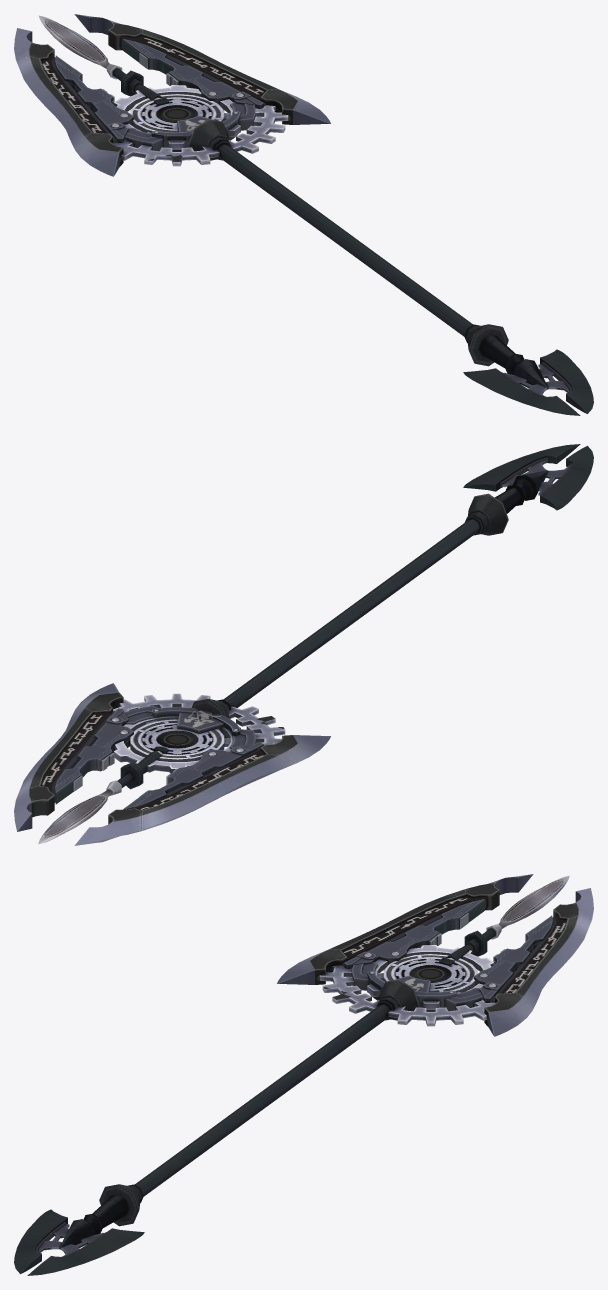
File: spear_ooparts_spear_ooparts_spear_mumei_s.glb
3 renders of one model, top to bottom at view 1: azimuth 30°, elevation 25°; view 2: azimuth 150°, elevation 25°; view 3: azimuth 330°, elevation 25°, orthographic.
Size of the model in its own units: 0.7163 by 0.1259 by 2.95.
Materials: 1 (1 with a texture image).
